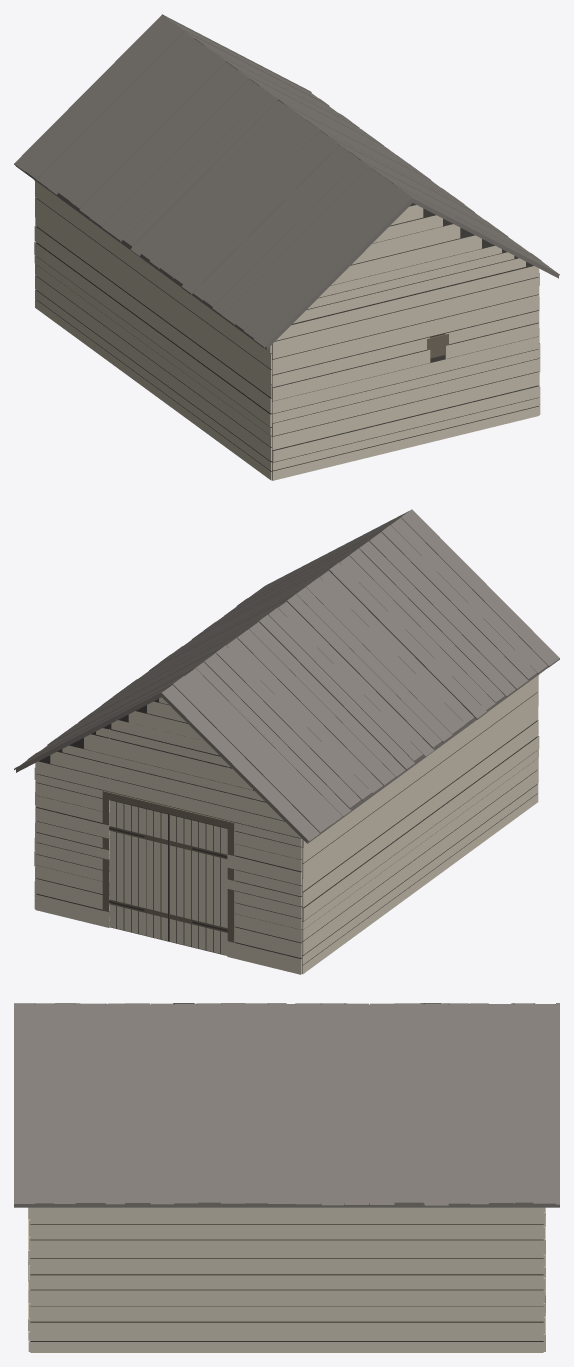
Rendered from recon_1835_north_w2_065__inferred_1835.glb.
3 renders of one model, top to bottom at view 1: azimuth 30°, elevation 25°; view 2: azimuth 150°, elevation 25°; view 3: azimuth 270°, elevation 25°, orthographic. The views are drawn at different scales.
Parts seen in each view (by area): view 1: recon_1835_north_w2_065__inferred_1835; view 2: recon_1835_north_w2_065__inferred_1835; view 3: recon_1835_north_w2_065__inferred_1835.
Boxes of the visible parts, x1=… form: recon_1835_north_w2_065__inferred_1835: x1=14, y1=14, x2=559, y2=480; recon_1835_north_w2_065__inferred_1835: x1=14, y1=509, x2=559, y2=974; recon_1835_north_w2_065__inferred_1835: x1=14, y1=1003, x2=559, y2=1352.
Size of the model in its own units: 7.24 by 5.96 by 10.61.
